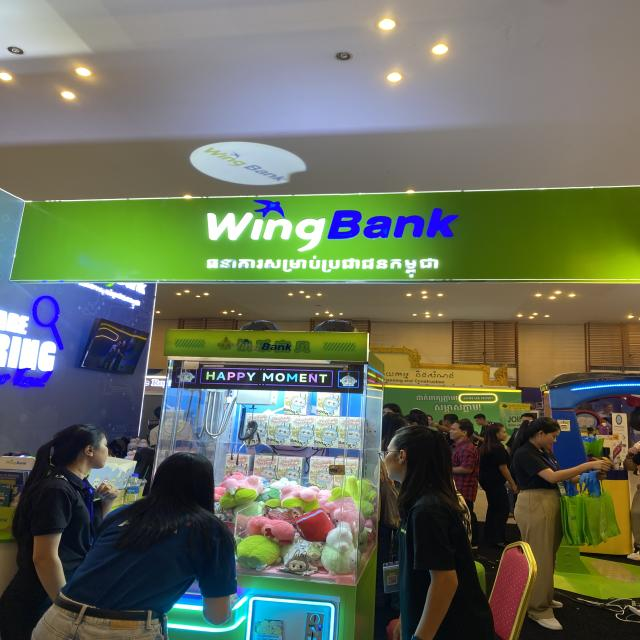1: (384, 370, 456, 380)
Yolov11_80vkh: (196, 254, 447, 279), (430, 401, 487, 415), (414, 393, 461, 403)
